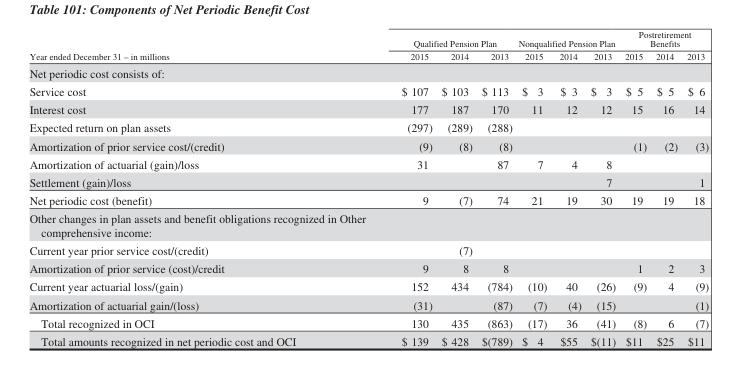table: (28, 29, 708, 347)
table column: (28, 29, 348, 347), (348, 29, 436, 347), (436, 29, 476, 347), (476, 29, 514, 347), (514, 29, 552, 347), (585, 29, 619, 347), (552, 29, 585, 347), (619, 29, 650, 347), (650, 29, 681, 347), (681, 29, 708, 347)
table column header: (28, 29, 708, 63)
table projected row header: (28, 208, 708, 241), (28, 63, 708, 82)
table row: (28, 208, 708, 241), (28, 29, 708, 49), (28, 63, 708, 82), (28, 82, 708, 100), (28, 100, 708, 118), (28, 118, 708, 136), (28, 136, 708, 154), (28, 154, 708, 172), (28, 172, 708, 190), (28, 190, 708, 208), (28, 241, 708, 259), (28, 259, 708, 277), (28, 277, 708, 295), (28, 295, 708, 313), (28, 313, 708, 331), (28, 331, 708, 347), (28, 49, 708, 63)
table spanning cell: (28, 29, 348, 63), (348, 29, 514, 49), (514, 29, 619, 49), (619, 29, 708, 49)
